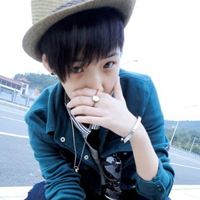face: (56, 31, 123, 117)
